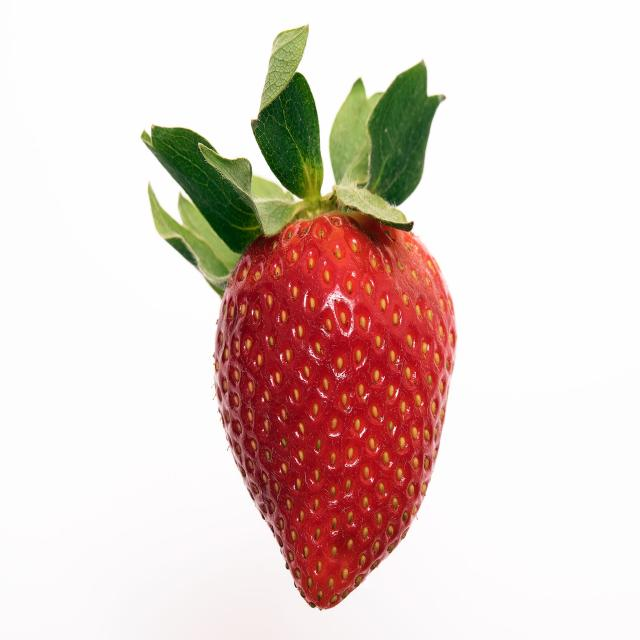strawberry: (111, 0, 469, 602)
